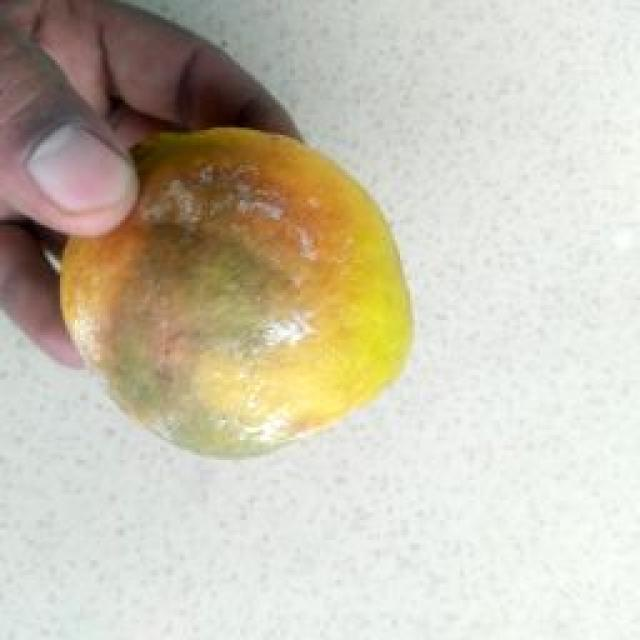Bad_Orange: (64, 129, 411, 454)
